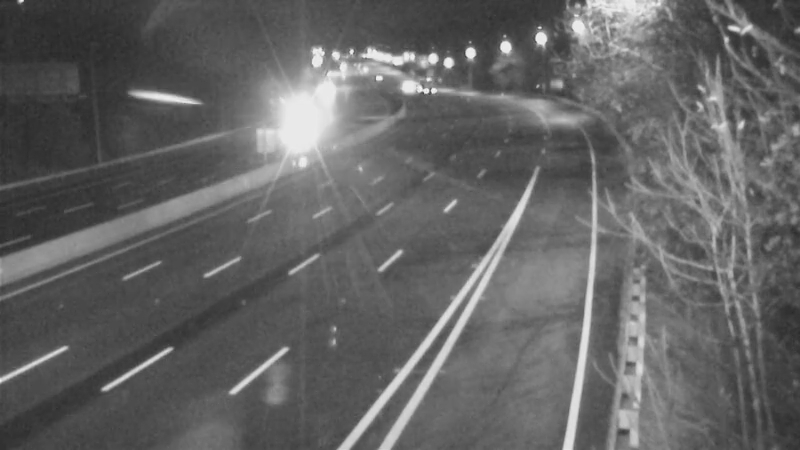vehicle: (380, 60, 430, 110), (400, 60, 450, 110), (270, 101, 320, 151)
